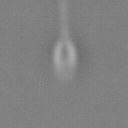normal: (51, 1, 77, 38)
